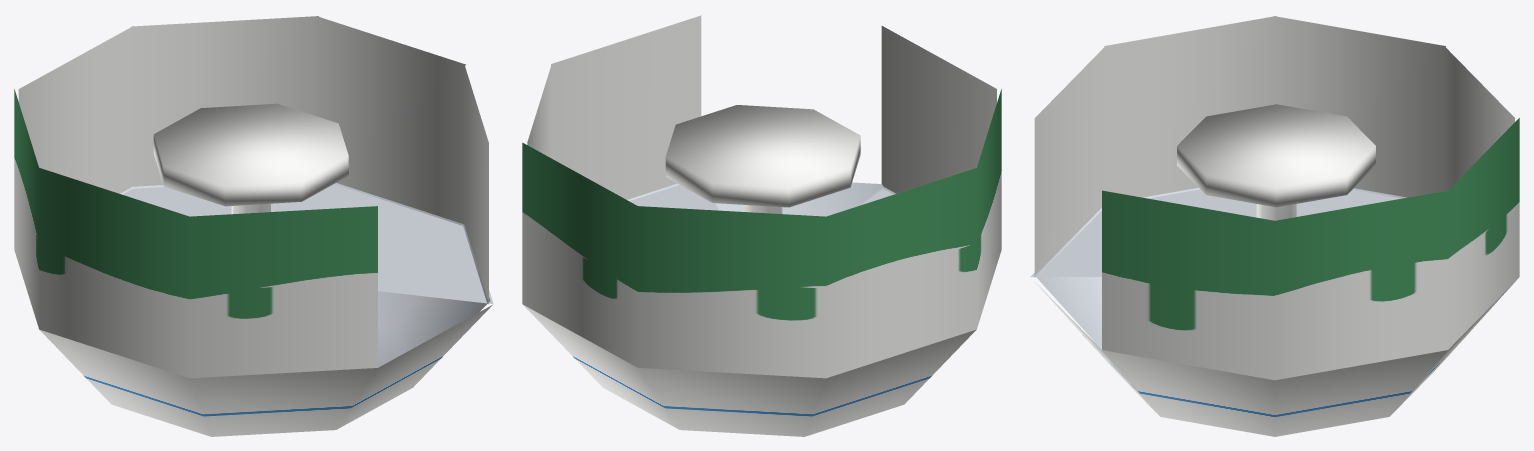
The model's file is CupTex.glb.
3 renders of one model, left to right at view 1: azimuth 30°, elevation 25°; view 2: azimuth 150°, elevation 25°; view 3: azimuth 270°, elevation 25°, orthographic.
Visible parts, largest first — view 1: CupTex; view 2: CupTex; view 3: CupTex.
Boxes of the visible parts, bbox=[...] form: CupTex: bbox=[14, 16, 493, 436]; CupTex: bbox=[522, 15, 1001, 436]; CupTex: bbox=[1030, 16, 1519, 436].
Bounding box in the file's own units: 2 × 1.15 × 2.
Materials: 1 (1 with a texture image).
